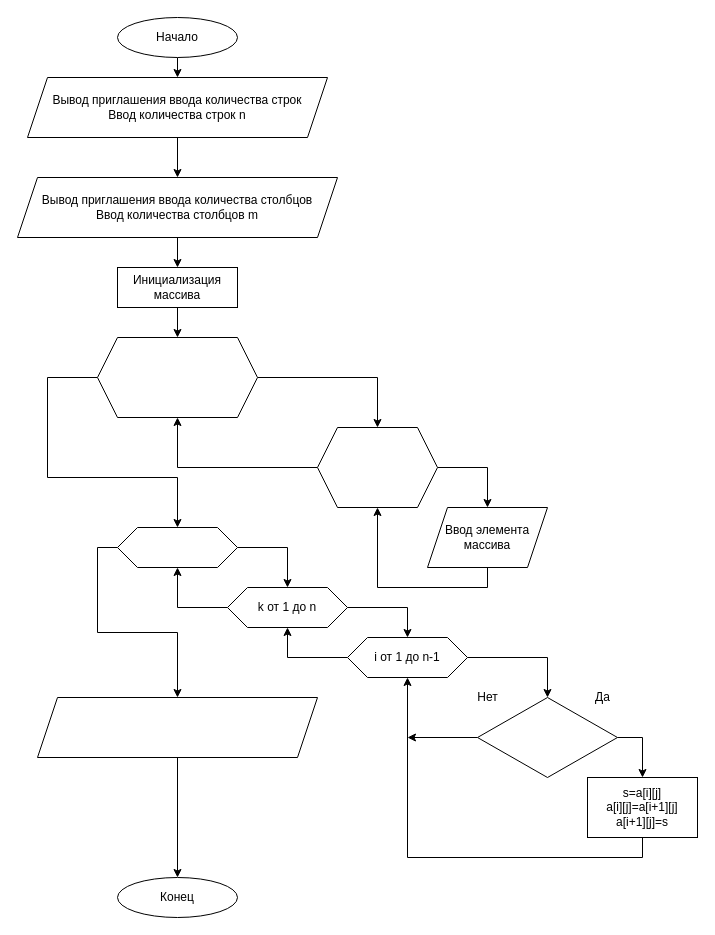
This 715x935 diagram has some shape labels left out. Each missing label, with the box of its shape:
a[i][j]>a[i+1][j]: (476, 696, 618, 778)
i от 1 до кол-во строк n: (96, 336, 258, 418)
j от 1 до m: (116, 526, 238, 568)
j от 1 до кол-во столбцов m: (316, 426, 438, 508)
Вывод результирующего массива: (36, 696, 318, 758)
